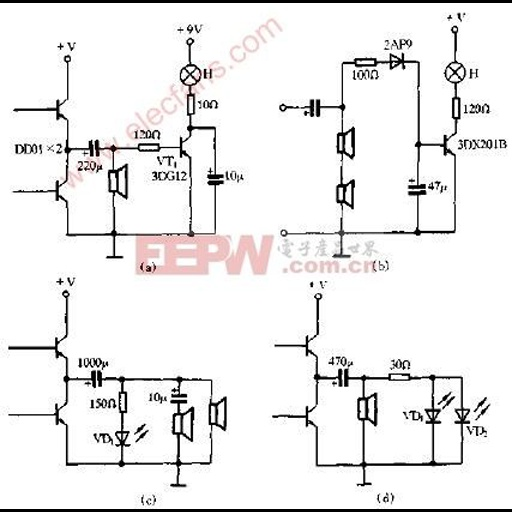firstpolarcapacitor: (78, 137, 105, 159), (404, 176, 427, 199), (203, 165, 225, 189), (330, 367, 352, 389), (82, 369, 105, 389), (169, 384, 189, 407), (303, 97, 324, 118)
firstresistance: (447, 95, 464, 122), (134, 141, 165, 153), (386, 371, 414, 384), (350, 55, 378, 68), (183, 92, 197, 117), (117, 390, 130, 415)
light: (442, 59, 466, 85), (178, 61, 202, 86)
loudspeaker: (328, 176, 362, 212), (354, 391, 384, 429), (329, 126, 362, 160), (168, 407, 197, 442), (206, 395, 232, 434), (105, 164, 132, 201)
npn: (47, 331, 71, 362), (51, 93, 74, 124), (300, 328, 322, 360), (48, 174, 71, 204), (298, 401, 321, 431), (439, 128, 459, 160), (49, 399, 70, 428)
pnp: (174, 133, 196, 159)
secondled: (453, 396, 491, 425), (424, 391, 455, 425), (114, 424, 152, 450)
